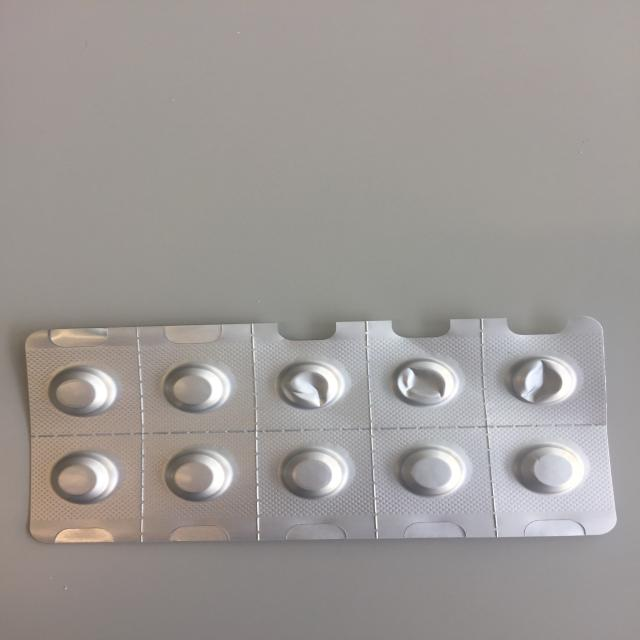Empty: (270, 357, 356, 414), (382, 353, 464, 410), (501, 351, 580, 410)
Pill: (386, 439, 468, 501), (43, 360, 123, 422), (41, 449, 124, 508), (157, 445, 238, 504), (157, 356, 234, 418), (512, 440, 590, 500), (274, 441, 348, 503)
